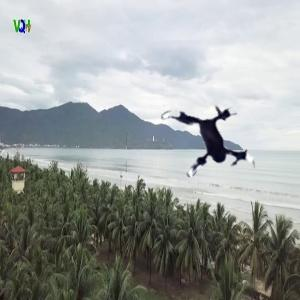drone: (146, 87, 267, 208)
